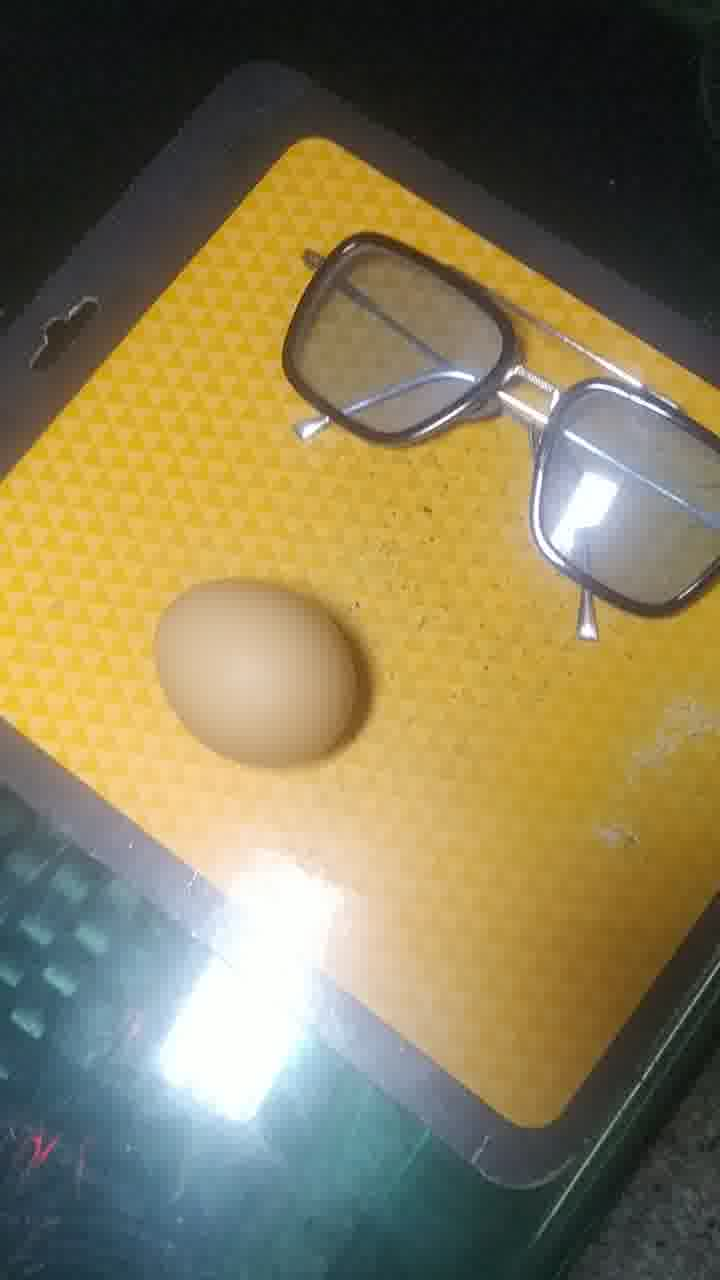egg: (157, 570, 377, 787)
sunglass: (277, 218, 720, 627)
